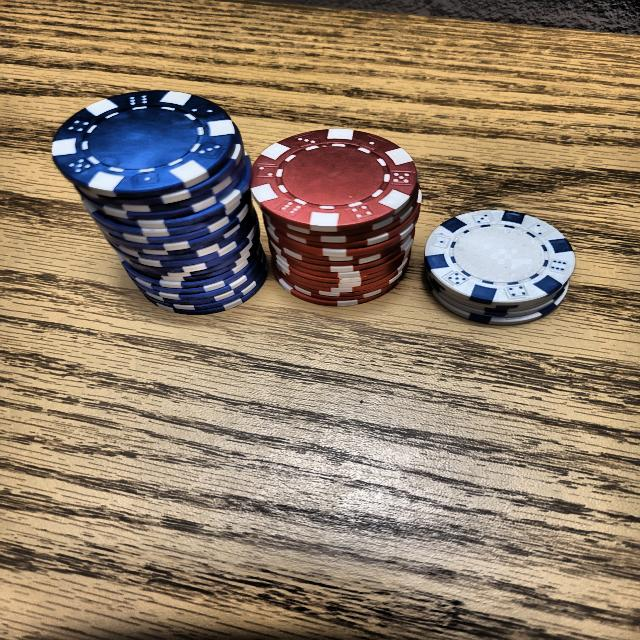Chip: (40, 69, 284, 342), (244, 100, 427, 326), (416, 192, 580, 338)
